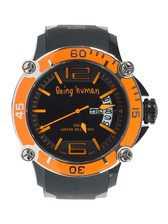watch: (10, 21, 160, 198)
